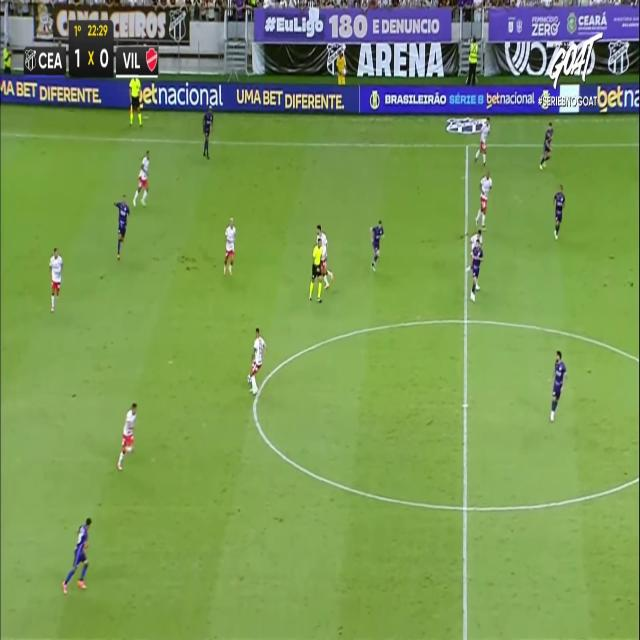ball: (248, 370, 252, 387)
player: (62, 517, 92, 593), (117, 401, 137, 470), (247, 326, 266, 393), (315, 221, 333, 291), (549, 350, 565, 422), (114, 193, 129, 259), (475, 170, 492, 228), (133, 150, 149, 207), (470, 230, 483, 300), (49, 246, 62, 311), (474, 117, 489, 165), (370, 220, 384, 271), (223, 216, 235, 275), (553, 185, 565, 240), (539, 121, 552, 169), (203, 104, 214, 157)
referee: (308, 235, 324, 301), (129, 74, 144, 126)
